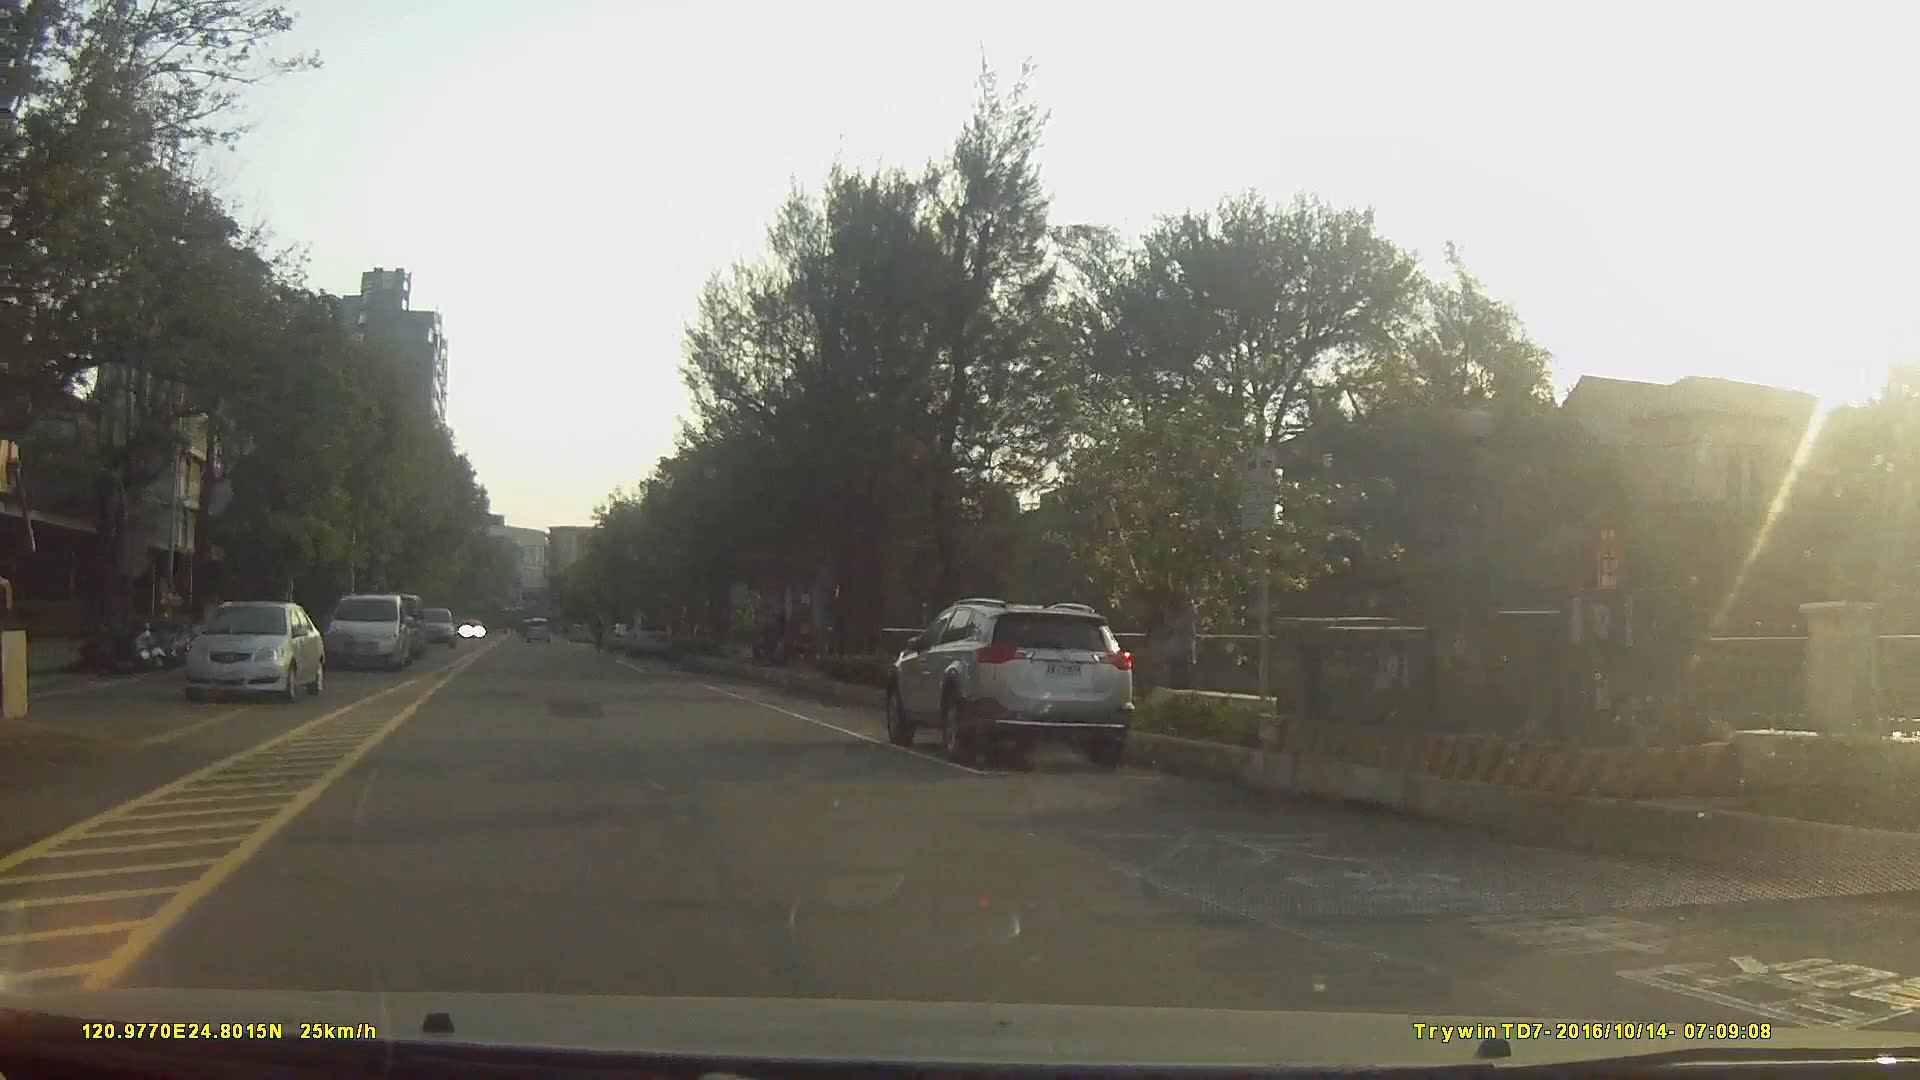vehicle: (887, 595, 1133, 769), (182, 600, 323, 702), (328, 593, 413, 673), (626, 613, 674, 658), (411, 607, 456, 647)
